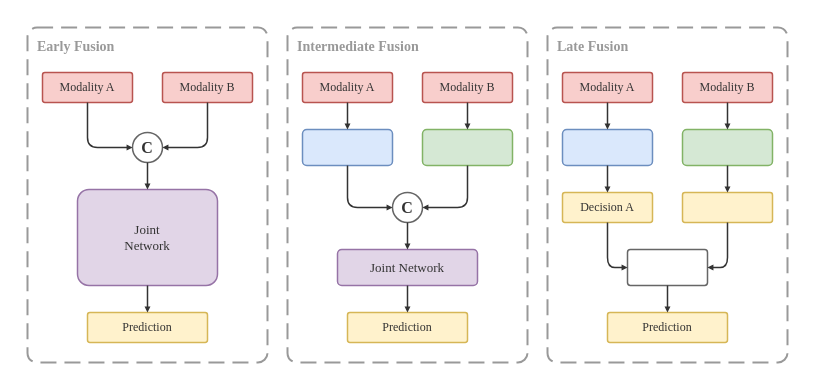
The diagram is 814 pixels wide and 389 high, and some of its shapes have lost their labels. The shapes that lost their labels are listed below. From the top down, each one's centre as x and y in pixels, then its label:
At pixel 347 147: "Encoder A".
At pixel 467 147: "Encoder B".
At pixel 607 147: "Network A".
At pixel 727 147: "Network B".
At pixel 727 207: "Decision B".
At pixel 667 267: "Fusion (avg / vote)".
